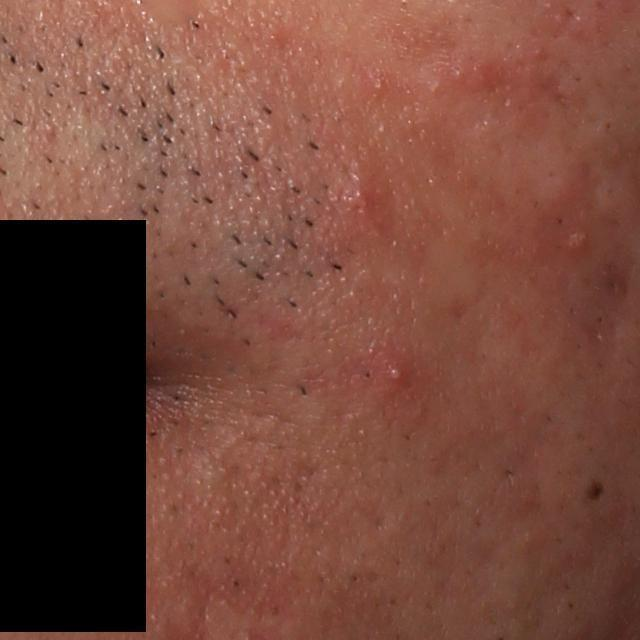nevus: (581, 472, 608, 518)
papule: (333, 167, 383, 223), (470, 47, 518, 98), (560, 217, 602, 257)
